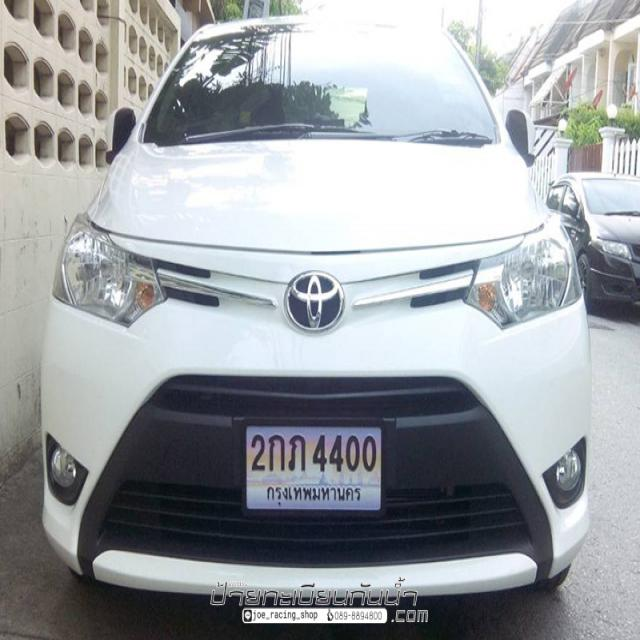license_plate: (241, 416, 387, 520)
